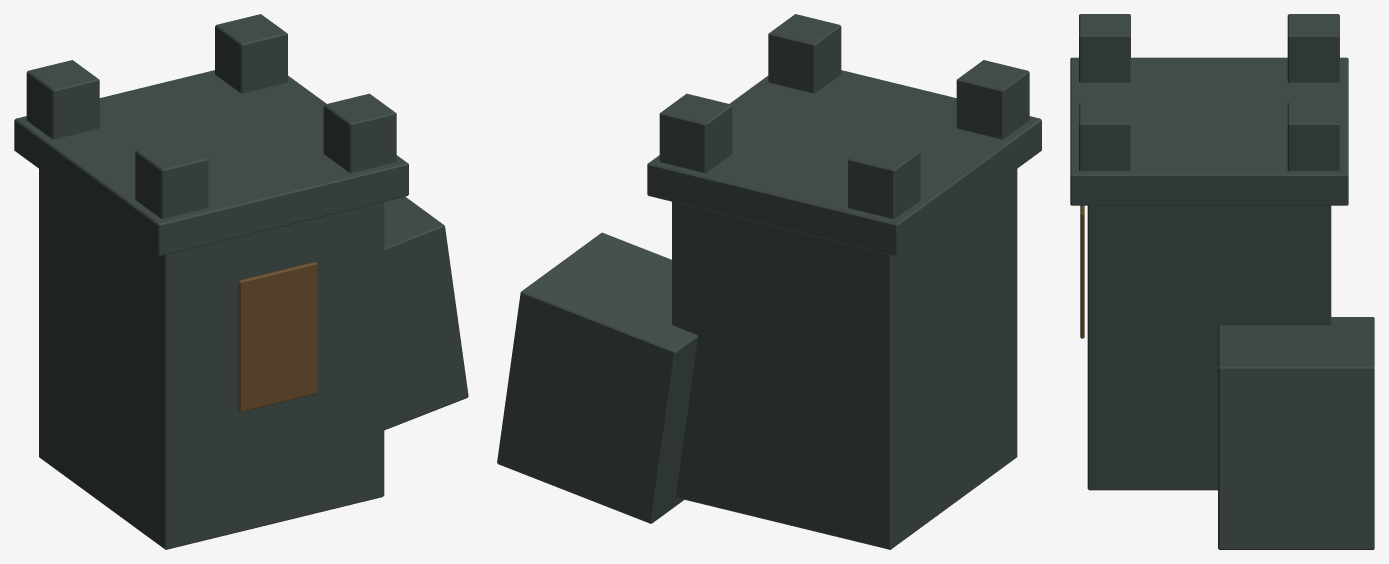
File: LumenShatteredFortressTowerV2.glb
The picture shows the model from 3 angles, left to right: view 1: azimuth 30°, elevation 25°; view 2: azimuth 150°, elevation 25°; view 3: azimuth 270°, elevation 25°; orthographic projection. The views are drawn at different scales.
Parts seen in each view (by area): view 1: LumenShatteredFortressTowerV2; view 2: LumenShatteredFortressTowerV2; view 3: LumenShatteredFortressTowerV2.
Boxes of the visible parts, bbox=[...] form: LumenShatteredFortressTowerV2: bbox=[14, 14, 468, 549]; LumenShatteredFortressTowerV2: bbox=[497, 14, 1041, 549]; LumenShatteredFortressTowerV2: bbox=[1070, 14, 1374, 549].
Size of the model in its own units: 24.71 by 24.13 by 17.5.
Materials: 1 (1 with a texture image).
